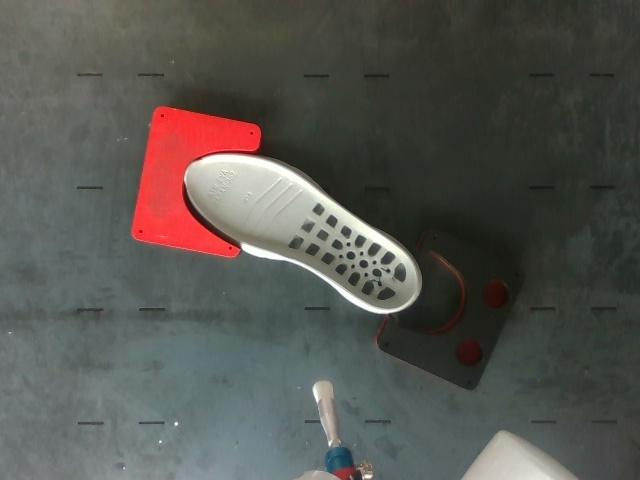shoes: (186, 155, 417, 310)
